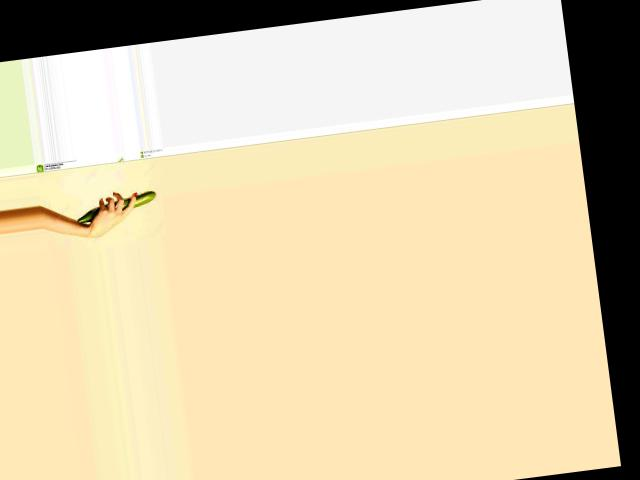cucumber: (73, 189, 158, 223)
